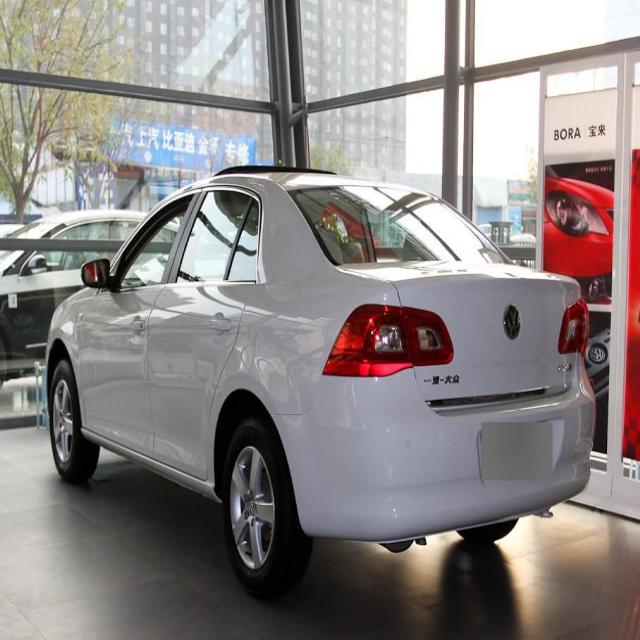back_glass: (286, 185, 515, 268)
back_left_side_light: (322, 302, 455, 377)
back_right_side_light: (555, 295, 592, 358)
door: (152, 188, 265, 466)
front_left_side_door: (78, 184, 202, 463)
front_left_side_mirror: (80, 256, 113, 292)
rear_bumper: (269, 377, 596, 541)
wheel: (222, 416, 310, 592), (49, 359, 98, 481)
